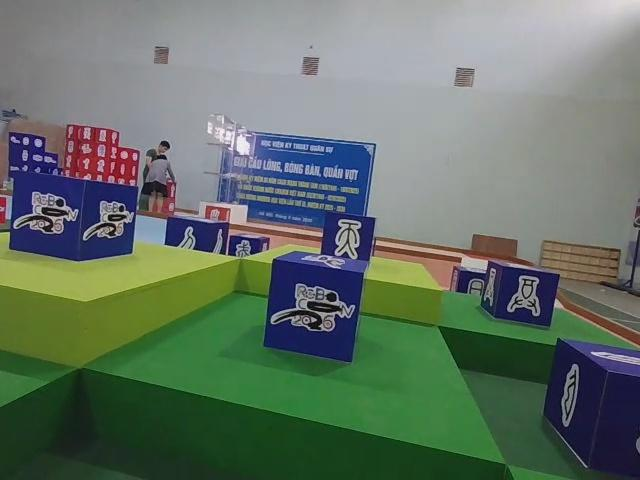R1 Blue: (265, 253, 371, 368), (9, 173, 137, 264)
R2 Fake Blue: (321, 210, 377, 265), (452, 265, 489, 294), (226, 235, 270, 259)
R2 Real Blue: (547, 341, 640, 480), (480, 259, 560, 328), (166, 215, 232, 256)
